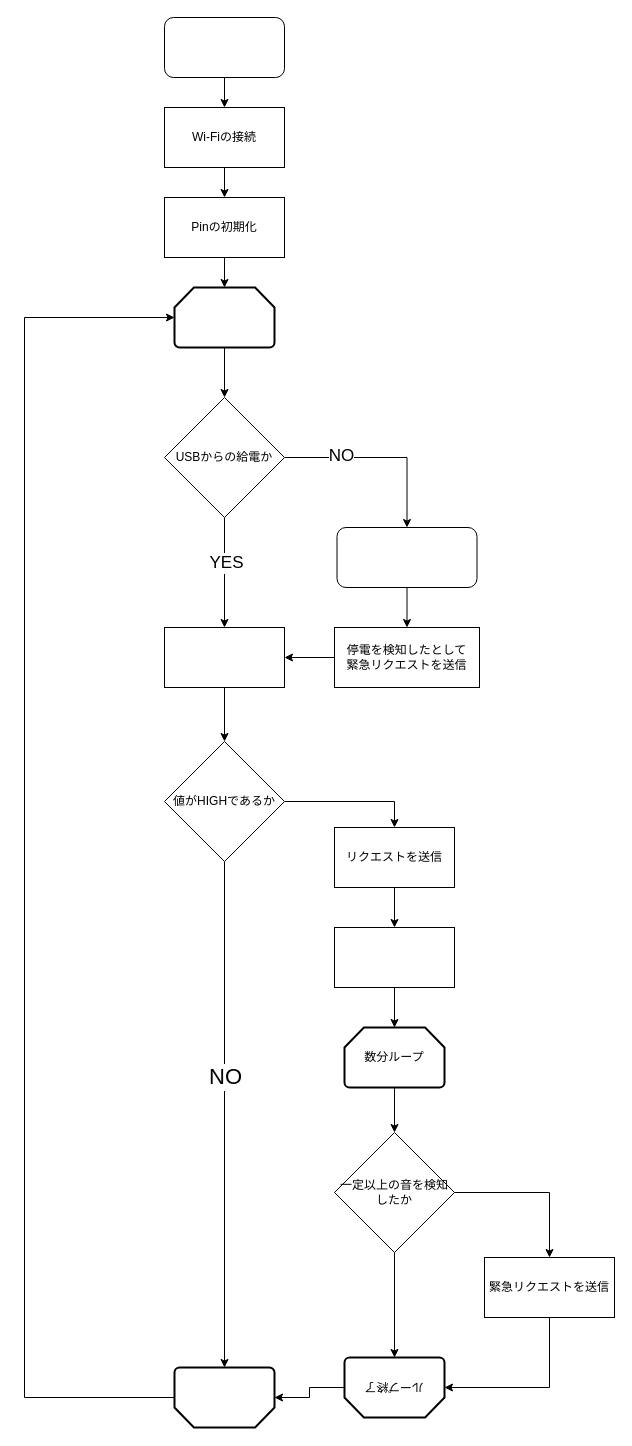
Image size: 632x1446. Some labels were removed from this diagram. The box of each missing label's shape, as (x1, y1, x2, y2) in pixels:
While True: (173, 286, 275, 348)
バッテリー駆動に移動: (336, 526, 477, 588)
人感センサでの値を取得: (164, 626, 284, 688)
開始: (164, 16, 284, 78)
音量センサによる 大きな音検知開始: (334, 926, 454, 988)
